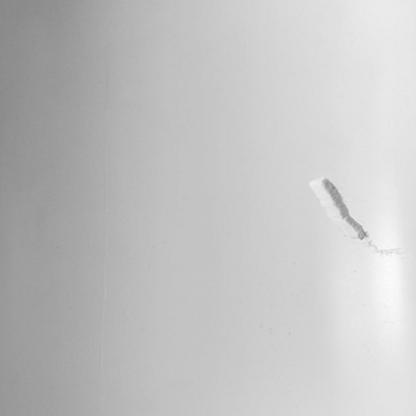sunshang: (311, 179, 368, 241)
